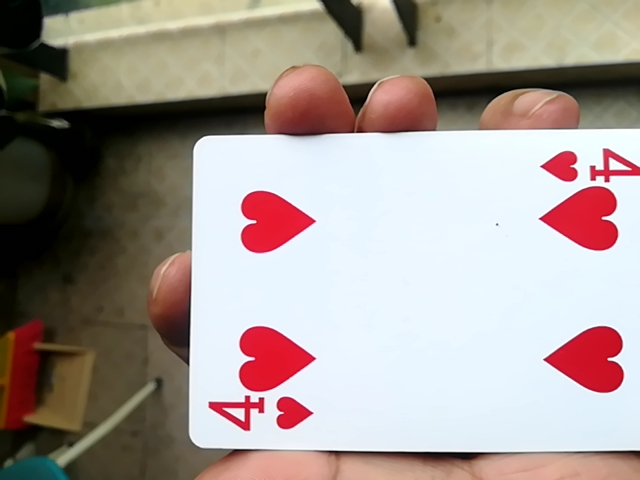hx 4: (178, 120, 635, 460)
